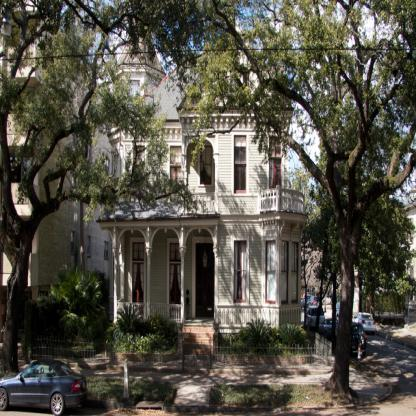Car: (0, 361, 87, 412), (348, 319, 366, 356), (352, 312, 377, 330), (306, 306, 326, 327)
